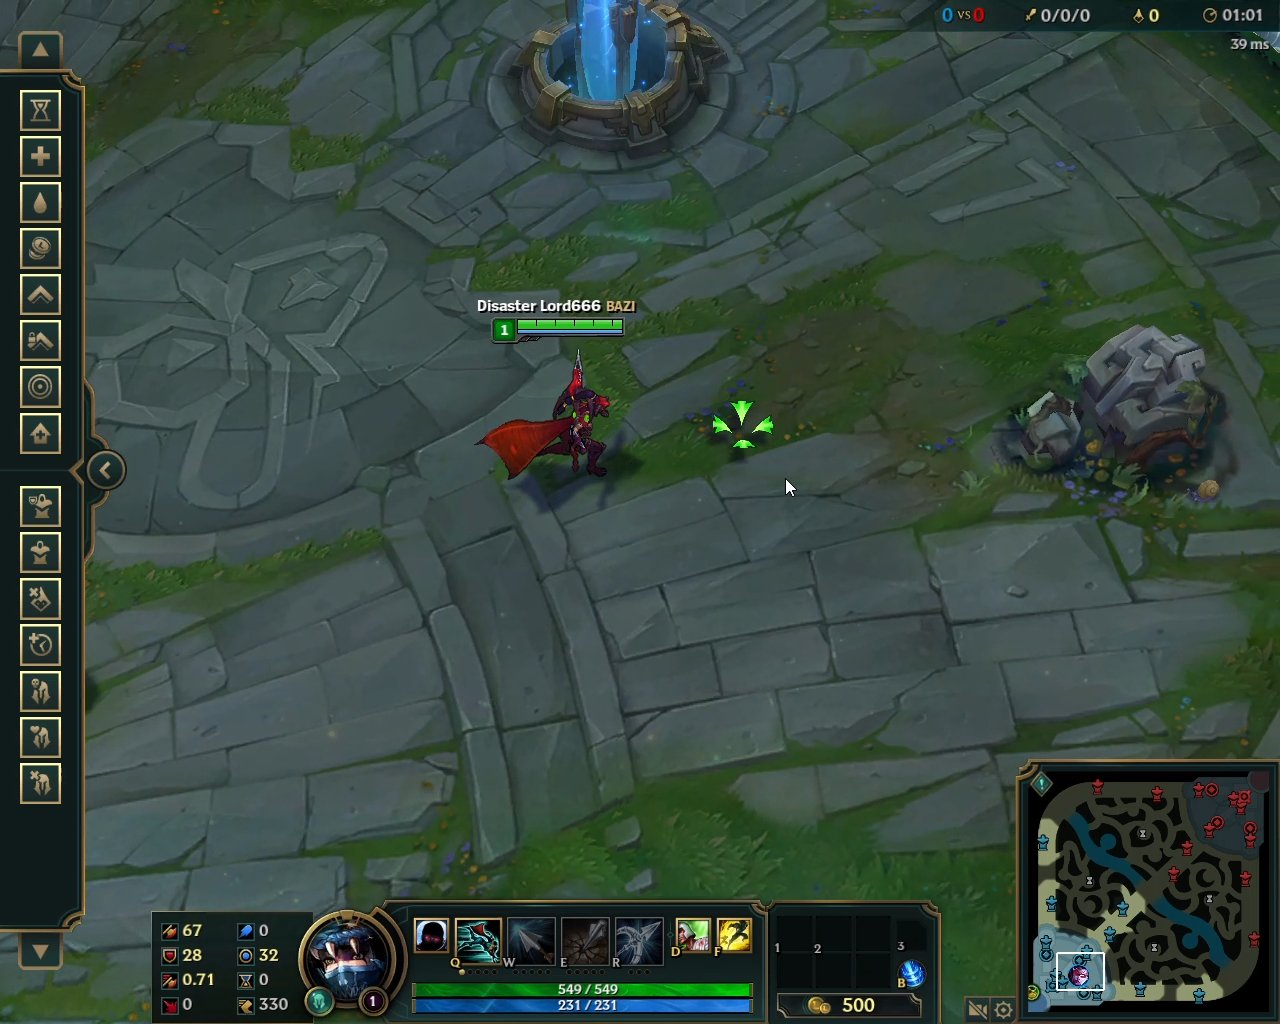Vayne: (468, 347, 621, 488)
